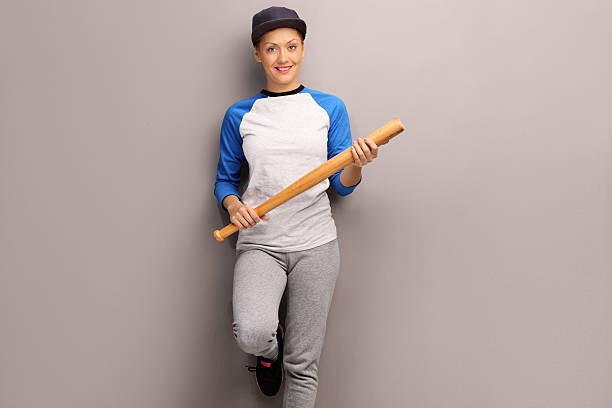bita: (206, 115, 402, 241)
